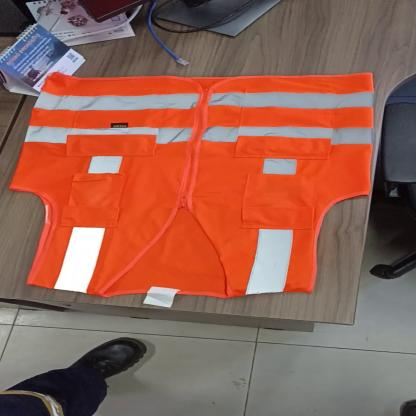colete: (7, 69, 377, 298)
